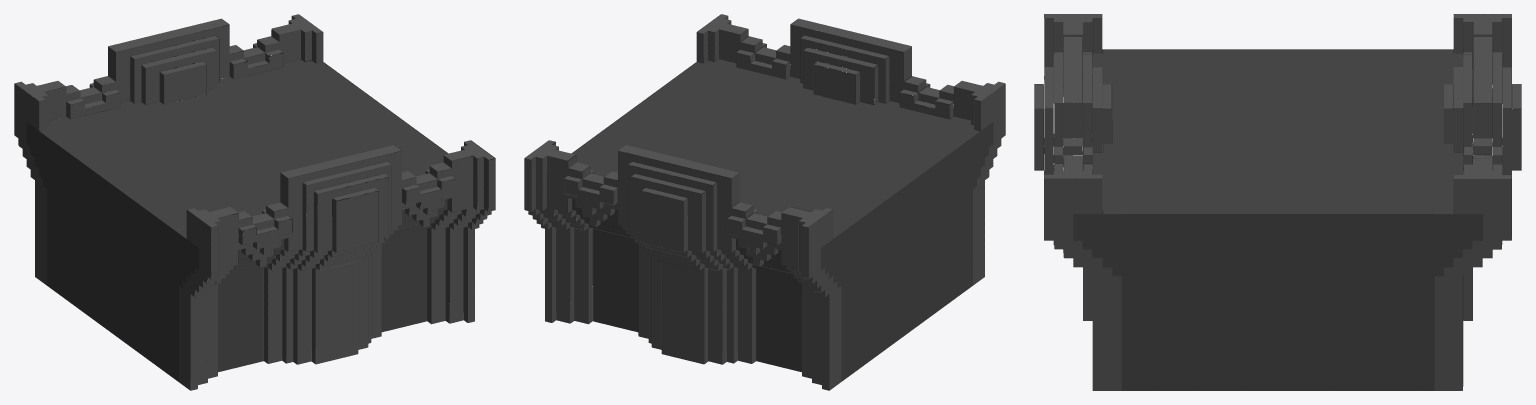
The model's file is CastleWallTop.fbx.
3 renders of one model, left to right at view 1: azimuth 30°, elevation 25°; view 2: azimuth 150°, elevation 25°; view 3: azimuth 270°, elevation 25°, orthographic. The views are drawn at different scales.
Visible parts, largest first — view 1: Castle wall top; view 2: Castle wall top; view 3: Castle wall top.
Part boxes in pixels (x1,y1,x2,y2): Castle wall top: (14,14,495,390); Castle wall top: (524,14,1005,390); Castle wall top: (1034,14,1521,390).
Bounding box in the file's own units: 400 × 500 × 270.
